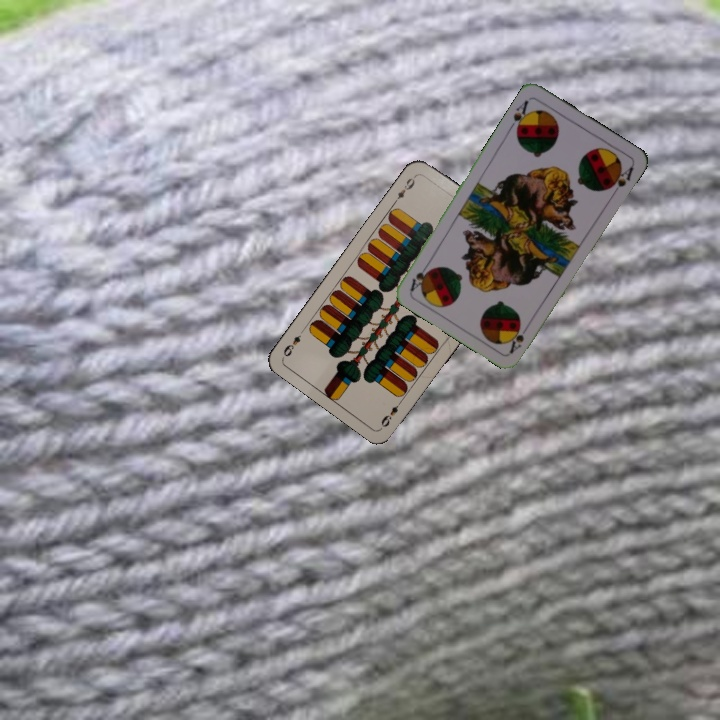E9: (390, 171, 419, 206), (377, 395, 406, 430)
SA: (506, 96, 533, 135), (505, 323, 527, 356)
